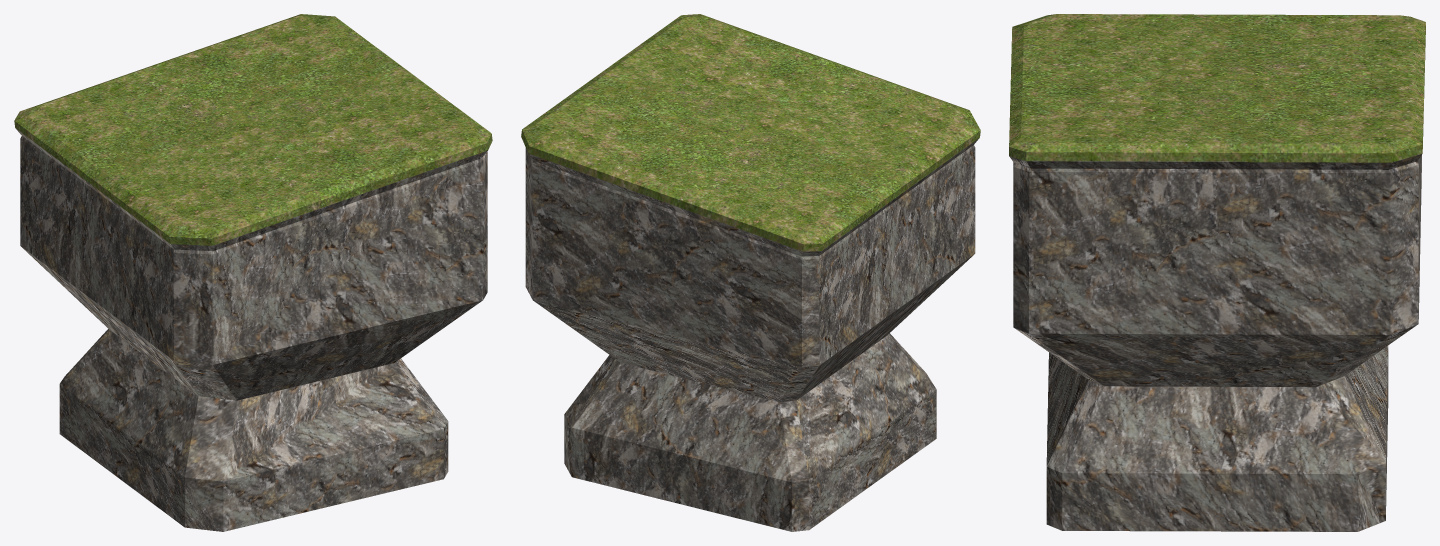
Rendered from ARC0310004.fbx.
3 views of the same model, side by side, from view 1: azimuth 30°, elevation 25°; view 2: azimuth 150°, elevation 25°; view 3: azimuth 270°, elevation 25° (orthographic). The views are drawn at different scales.
Visible parts, largest first — view 1: smARC0310004; view 2: smARC0310004; view 3: smARC0310004.
Part boxes in pixels (x1=…): smARC0310004: x1=14, y1=14, x2=492, y2=531; smARC0310004: x1=521, y1=14, x2=980, y2=531; smARC0310004: x1=1009, y1=14, x2=1425, y2=531.
Size of the model in its own units: 138 by 144 by 137.
1 material, 1 textured.
